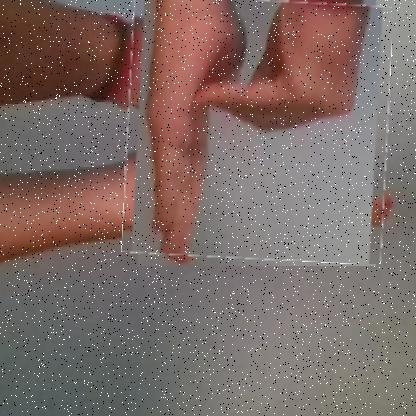Z: (124, 0, 391, 262)
